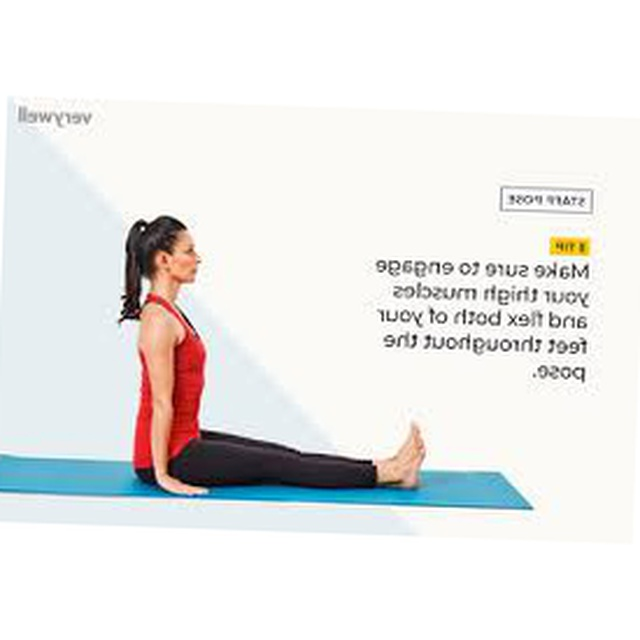Staff_Pose: (116, 214, 428, 497)
